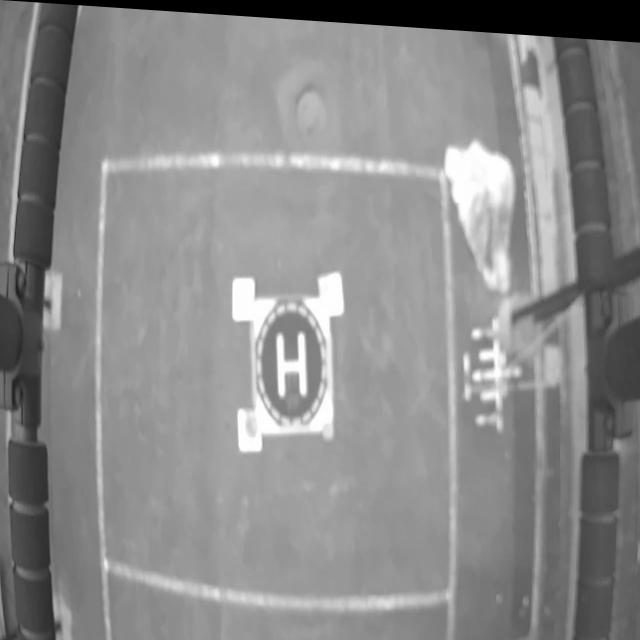Helipad: (275, 328, 308, 395)
